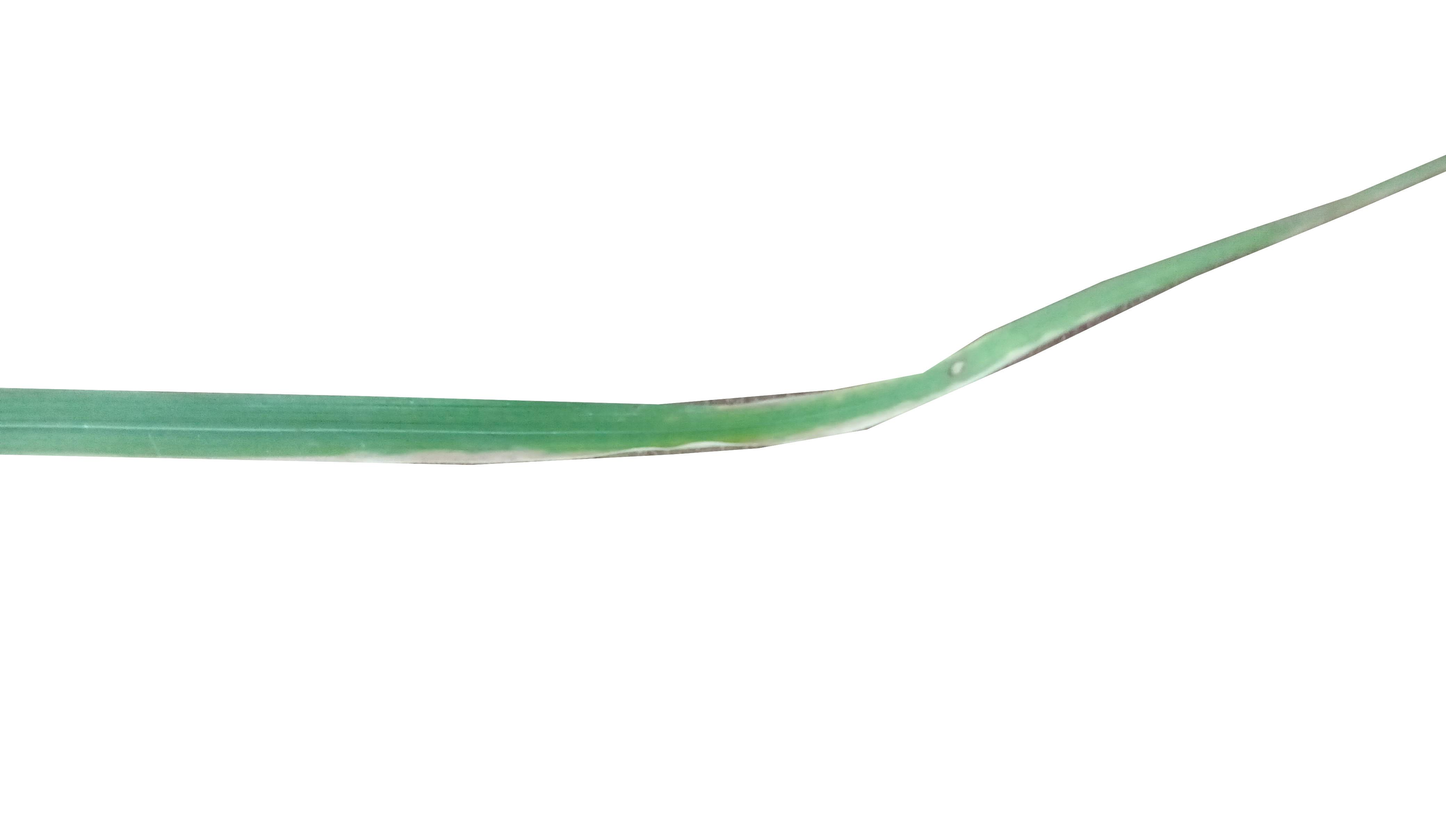Blight: (945, 360, 972, 382)
